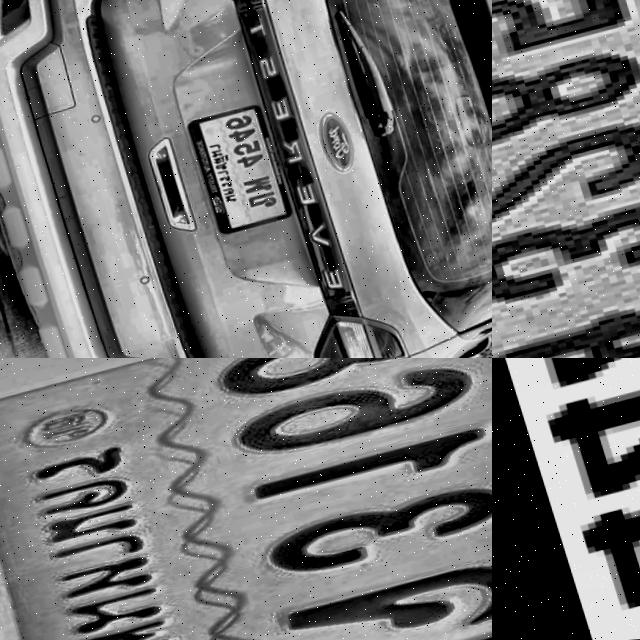license-plate: (0, 358, 492, 640), (492, 0, 640, 358), (492, 358, 640, 640), (173, 102, 291, 243)
